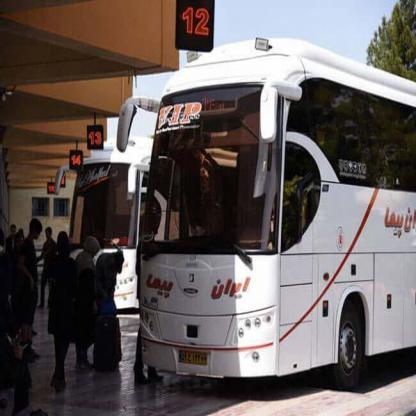Bus: (136, 27, 416, 386), (56, 147, 158, 311)
